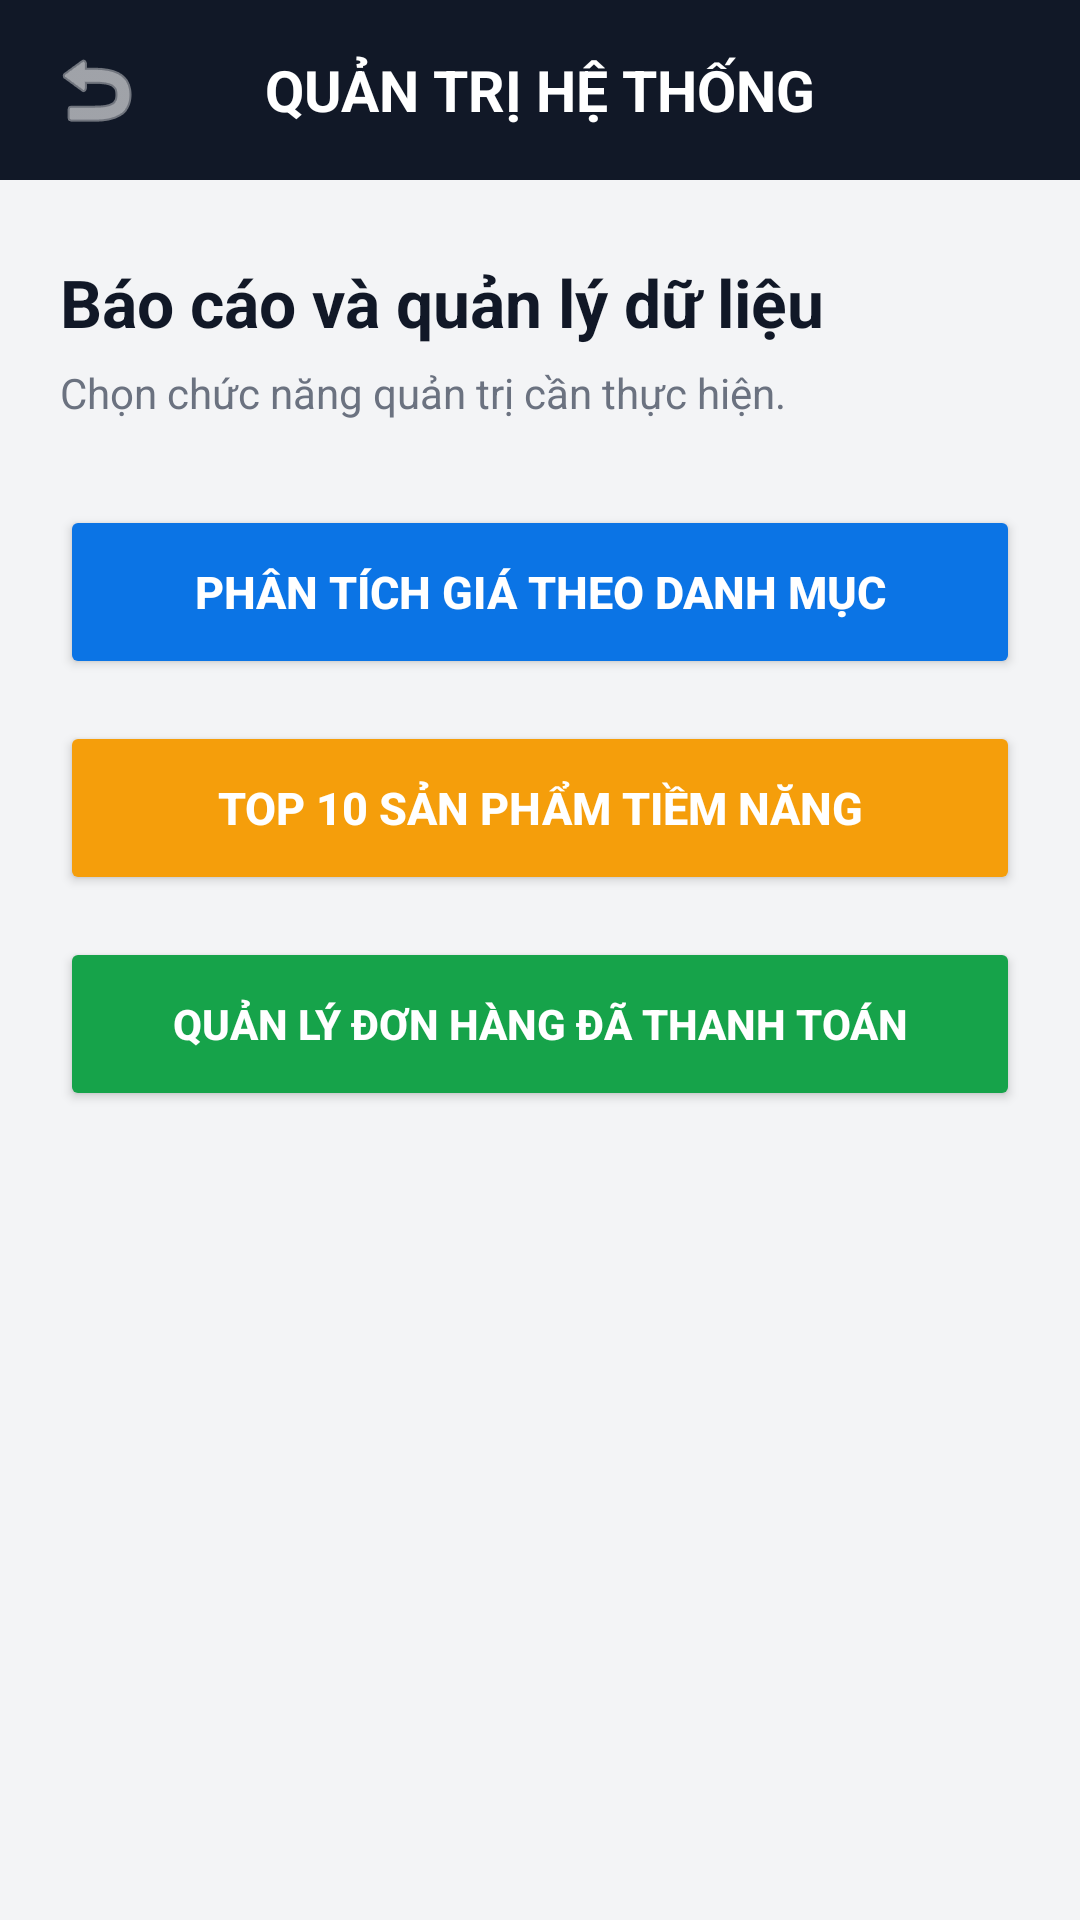

Locate icon controls on the screen. Image size 1080px×1920px, boxes as (x1, y1, x2, y2).
Quay lại: (63, 59, 132, 122)
